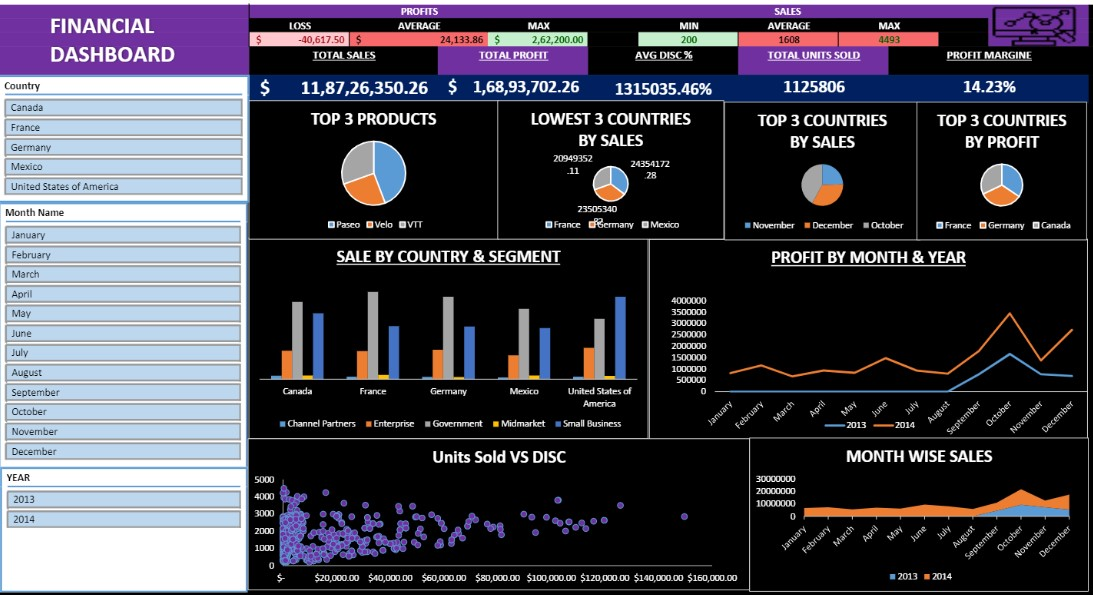

The dashboard page shown, as its layout file describes it:
{"tool":"powerbi","page":{"name":"DASHBOARD","canvas":[1650,1050],"ordinal":0},"visuals":[{"type":"textbox","box":[9,0,1270,55],"z":0},{"type":"clusteredBarChart","title":"Product wise sales","fields":{"Category":["wcfds.Product"],"Y":["Sum(wcfds.Sales)"]},"box":[340,395,377.5,220],"z":1000},{"type":"shape","box":[0,0,1650,85],"z":2000},{"type":"textbox","box":[0,10,552,66],"z":3000},{"type":"textbox","box":[100,42,404,64],"z":4000},{"type":"cardVisual","fields":{"Data":["Sum(wcfds.Profit)"]},"box":[0,85,251.7,93.3],"z":5000},{"type":"cardVisual","fields":{"Data":["Sum(wcfds.Units_Sold)"]},"box":[251.7,85,251.7,93.3],"z":6000},{"type":"cardVisual","fields":{"Data":["Avg(wcfds.Sales)"]},"box":[503.3,85,251.7,93.3],"z":7000},{"type":"cardVisual","fields":{"Data":["wcfds.Units_Sold x Sale_Price"]},"box":[754.1,85.6,242.3,94],"z":8000},{"type":"cardVisual","fields":{"Data":["wcfds.profit margine"]},"box":[994.3,87.7,279.9,91.9],"z":9000},{"type":"treemap","title":"Segment wise profit","fields":{"Group":["wcfds.Segment"],"Values":["Sum(wcfds.Profit)"]},"box":[1412.5,342.5,237.5,362.5],"z":10000},{"type":"filledMap","title":"Country wise sales","fields":{"Category":["wcfds.Country"]},"box":[1275,705,375,345],"z":11000},{"type":"columnChart","title":"Profit and Sale by Qtr","fields":{"Category":["wcfds.Date.Variation.Date Hierarchy.Year","wcfds.Date.Variation.Date Hierarchy.Quarter"],"Y":["wcfds.TOTAL PROFIT","wcfds.TOTAL SALES"]},"box":[705,755,570,292.5],"z":12000},{"type":"stackedAreaChart","title":"Yearly Sales","fields":{"Category":["wcfds.Month_Name","wcfds.Year"],"Y":["Sum(wcfds.Sales)"]},"box":[0,177.5,337.5,220],"z":13000},{"type":"stackedAreaChart","title":"Yearly Sales","fields":{"Category":["wcfds.Month_Name","wcfds.Year"],"Y":["Sum(wcfds.Sales)"]},"box":[0,395,340,220],"z":14000},{"type":"donutChart","title":"Yearly profit","fields":{"Category":["wcfds.Year"],"Y":["Sum(wcfds.Profit)"]},"box":[328,175.5,536.8,219.3],"z":15000},{"type":"donutChart","title":"Units_Sold  Year over Year","fields":{"Category":["wcfds.Year"],"Y":["Sum(wcfds.Units_Sold)"]},"box":[864.8,179.6,273.6,219.3],"z":16000},{"type":"multiRowCard","title":"Top 2 Countries ","fields":{"Values":["wcfds.Country","Sum(wcfds.Profit)"]},"box":[1138.5,179.6,142,219.3],"z":17000},{"type":"multiRowCard","title":"Bottom 3 Products","fields":{"Values":["wcfds.Product","Sum(wcfds.Sales)"]},"box":[1412.5,87.5,237.5,255],"z":18000},{"type":"multiRowCard","title":"Product wise Discount","fields":{"Values":["wcfds.Product","Divide(Sum(wcfds.Discounts), ScopedEval(Sum(wcfds.Discounts), []))"]},"box":[1275,87.5,137.5,617.5],"z":19000},{"type":"ribbonChart","title":"Segment wise Product wise profit","fields":{"Category":["wcfds.Segment"],"Y":["Sum(wcfds.Profit)"],"Series":["wcfds.Product"]},"box":[705,397.5,570,357.5],"z":20000},{"type":"columnChart","title":"Segment wise Product sale","fields":{"Category":["wcfds.Segment","wcfds.Product"],"Y":["Sum(wcfds.Sales)"]},"box":[0,615,705,435],"z":21000},{"type":"slicer","fields":{"Values":["wcfds.Year"]},"box":[1428,8,104,62],"z":22000},{"type":"slicer","fields":{"Values":["wcfds.Country"]},"box":[1276,10,136,60],"z":23000},{"type":"slicer","fields":{"Values":["wcfds.Product"]},"box":[1136,10,124,60],"z":24000},{"type":"shape","box":[693.8,0,61.2,77.5],"z":25000},{"type":"shape","box":[816.2,0,58.8,73.8],"z":26000},{"type":"shape","box":[753.8,0,62.5,77.5],"z":27000}]}

Visuals, with their boxes on the page's 1650x1050 design canvas (x1, y1, x2, y2). These are canvas units, not pixel positions in the 1093x595 screenshot, which may show the page scaled, cropped or inside an application window:
textbox: box=[9, 0, 1279, 55]
"Product wise sales" clusteredBarChart: box=[340, 395, 718, 615]
shape: box=[0, 0, 1650, 85]
textbox: box=[0, 10, 552, 76]
textbox: box=[100, 42, 504, 106]
cardVisual - Sum(wcfds.Profit): box=[0, 85, 252, 178]
cardVisual - Sum(wcfds.Units_Sold): box=[252, 85, 503, 178]
cardVisual - Avg(wcfds.Sales): box=[503, 85, 755, 178]
cardVisual - wcfds.Units_Sold x Sale_Price: box=[754, 86, 996, 180]
cardVisual - wcfds.profit margine: box=[994, 88, 1274, 180]
"Segment wise profit" treemap: box=[1412, 342, 1650, 705]
"Country wise sales" filledMap: box=[1275, 705, 1650, 1050]
"Profit and Sale by Qtr" columnChart: box=[705, 755, 1275, 1048]
"Yearly Sales" stackedAreaChart: box=[0, 178, 338, 398]
"Yearly Sales" stackedAreaChart: box=[0, 395, 340, 615]
"Yearly profit" donutChart: box=[328, 176, 865, 395]
"Units_Sold  Year over Year" donutChart: box=[865, 180, 1138, 399]
"Top 2 Countries " multiRowCard: box=[1138, 180, 1280, 399]
"Bottom 3 Products" multiRowCard: box=[1412, 88, 1650, 342]
"Product wise Discount" multiRowCard: box=[1275, 88, 1412, 705]
"Segment wise Product wise profit" ribbonChart: box=[705, 398, 1275, 755]
"Segment wise Product sale" columnChart: box=[0, 615, 705, 1050]
slicer - wcfds.Year: box=[1428, 8, 1532, 70]
slicer - wcfds.Country: box=[1276, 10, 1412, 70]
slicer - wcfds.Product: box=[1136, 10, 1260, 70]
shape: box=[694, 0, 755, 78]
shape: box=[816, 0, 875, 74]
shape: box=[754, 0, 816, 78]
